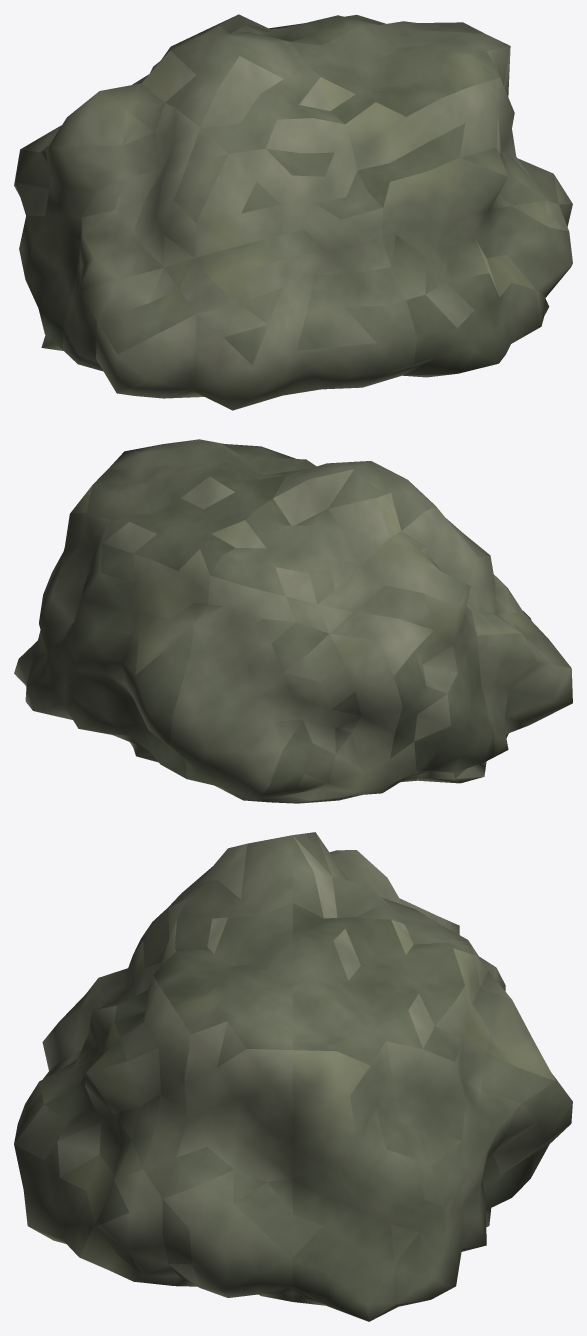
Rendered from Rock_Water_1.gltf.
3 renders of one model, top to bottom at view 1: azimuth 30°, elevation 25°; view 2: azimuth 150°, elevation 25°; view 3: azimuth 270°, elevation 25°, orthographic. The views are drawn at different scales.
Visible parts, largest first — view 1: Rock_Water_1; view 2: Rock_Water_1; view 3: Rock_Water_1.
Boxes of the visible parts, x1,y1,x2,y2 form: Rock_Water_1: [14, 14, 572, 410]; Rock_Water_1: [14, 439, 572, 803]; Rock_Water_1: [14, 832, 572, 1321].
Bounding box in the file's own units: 1.75 × 1 × 1.52.
Materials: 1 (1 with a texture image).
